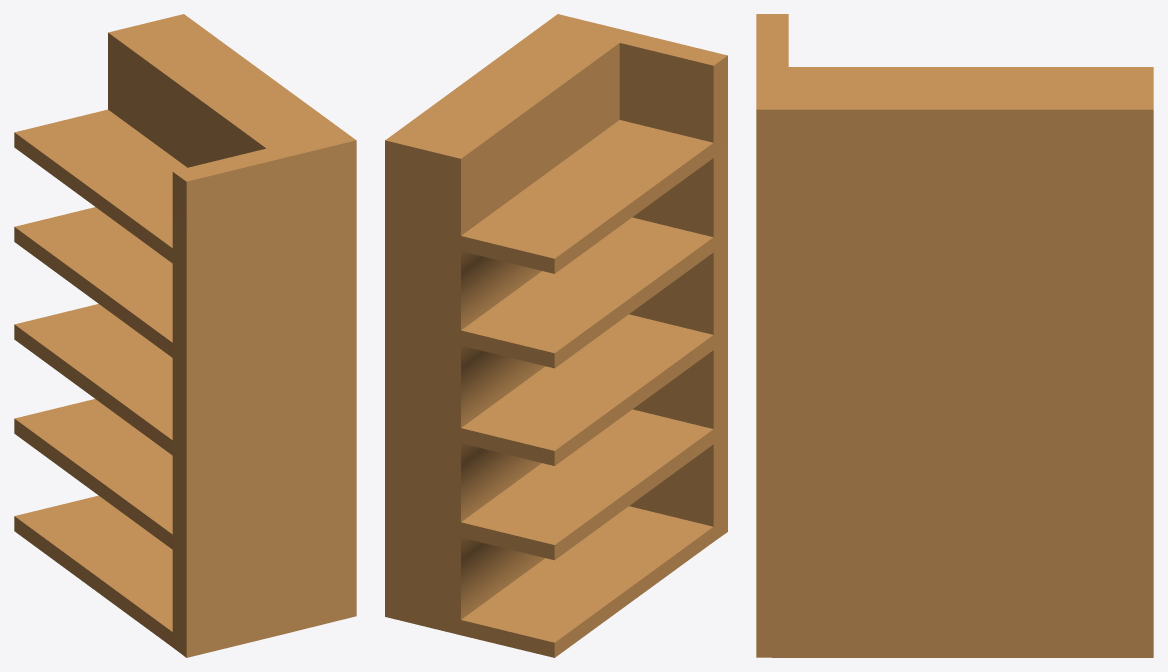
File: ShelfCorner.glb
3 views of the same model, side by side, from view 1: azimuth 30°, elevation 25°; view 2: azimuth 150°, elevation 25°; view 3: azimuth 270°, elevation 25° (orthographic). The views are drawn at different scales.
Parts seen in each view (by area): view 1: Shelf2; view 2: Shelf2; view 3: Shelf2.
Boxes of the visible parts, left/top/right/bottom form: Shelf2: left=14, top=14, right=356, bottom=657; Shelf2: left=385, top=14, right=727, bottom=657; Shelf2: left=756, top=14, right=1153, bottom=657.
Bounding box in the file's own units: 0.7743 × 2.07 × 1.36.
